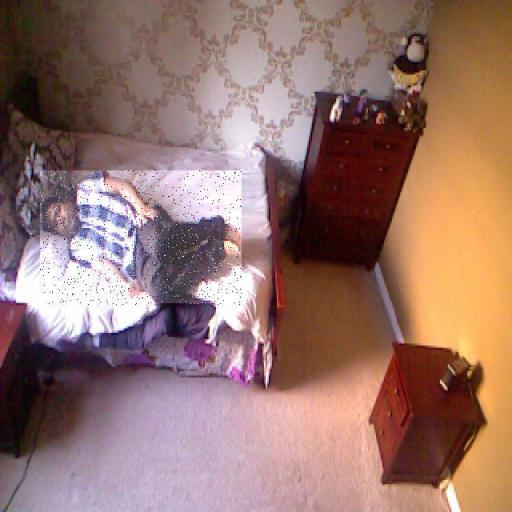Fall: (40, 171, 242, 306)
